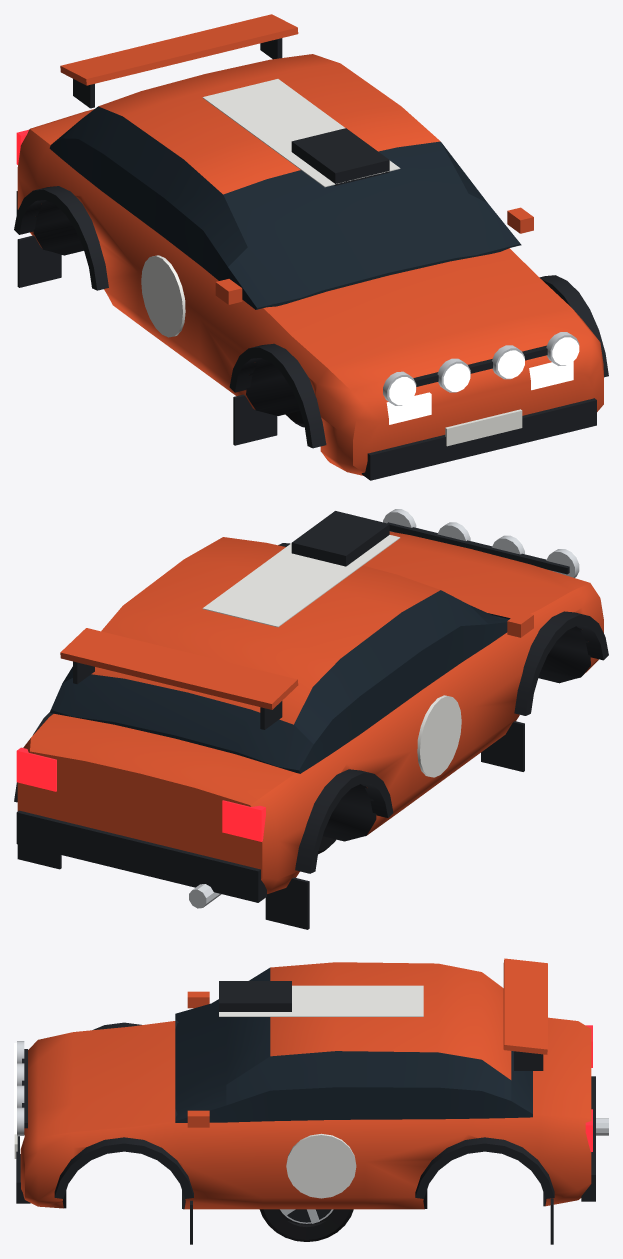
Rendered from rally.glb.
3 views of the same model, one above another, from view 1: azimuth 30°, elevation 25°; view 2: azimuth 150°, elevation 25°; view 3: azimuth 270°, elevation 25° (orthographic). The views are drawn at different scales.
Visible parts, largest first — view 1: body; view 2: body; view 3: body, wheel.
Part boxes in pixels (bbox=[...]): body: bbox=[14, 14, 608, 480]; body: bbox=[14, 509, 608, 929]; body: bbox=[14, 958, 608, 1244]; wheel: bbox=[259, 1209, 353, 1241].
Bounding box in the file's own units: 2.02 × 1.85 × 4.08.
